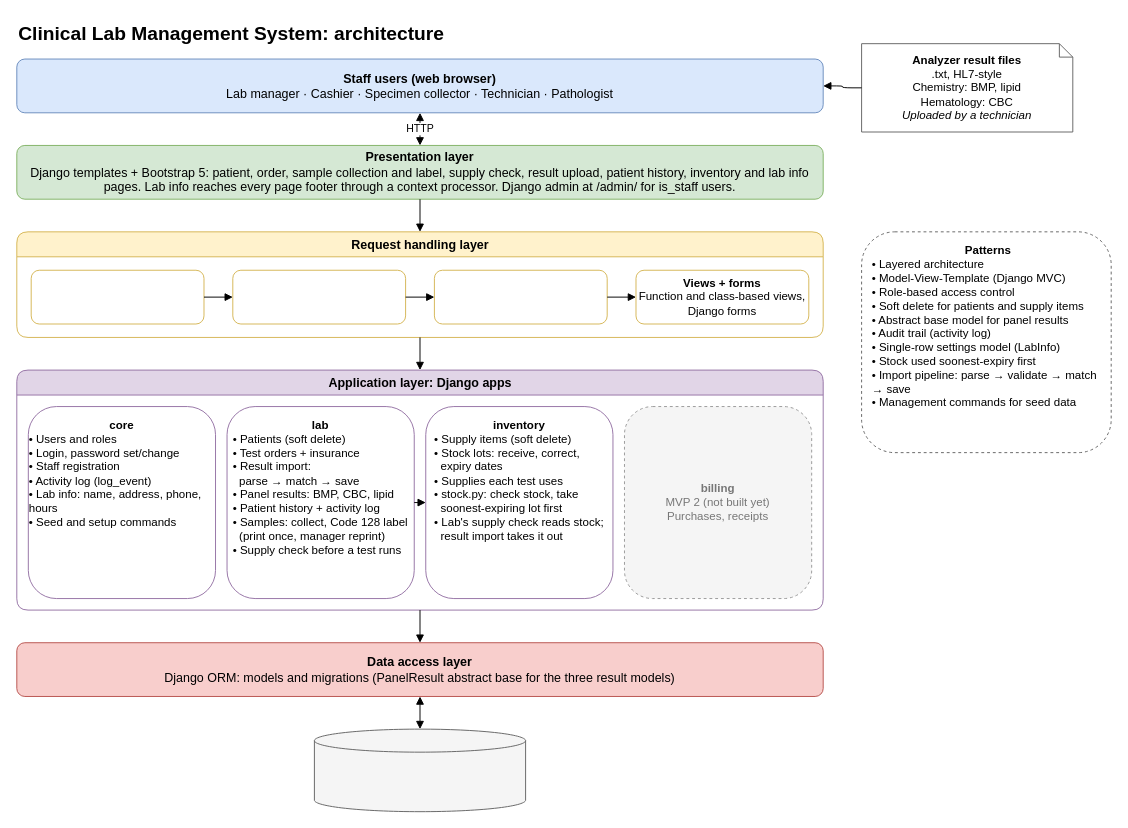
The diagram is 1128 pixels wide and 828 high, and some of its shapes have lost their labels. The shapes that lost their labels are listed below. From the top down, each one's centre as x and y in pixels, then its label:
At point (117, 296): "Middleware Sessions, CSRF, login required, forced password change".
At point (319, 296): "URL routing config/urls.py".
At point (520, 296): "role_required Role check on most views (403 if not allowed)".
At point (419, 770): "Database SQLite (local) PostgreSQL via DATABASE_URL".
